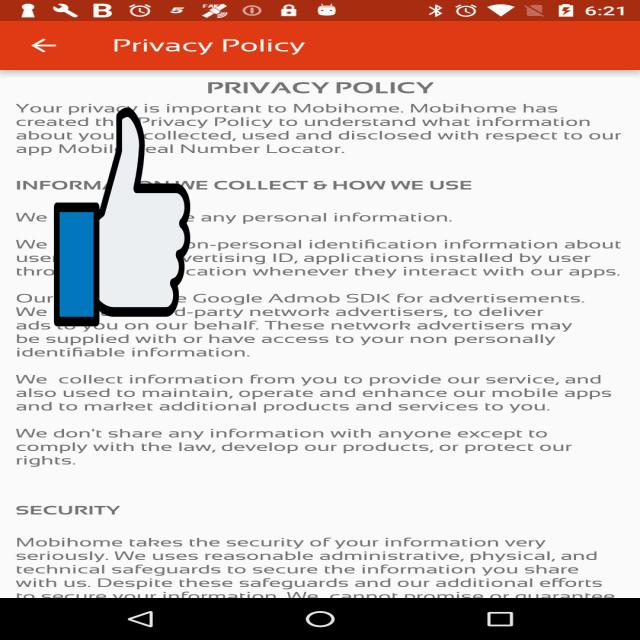privacy zuckering: (54, 103, 190, 331)
